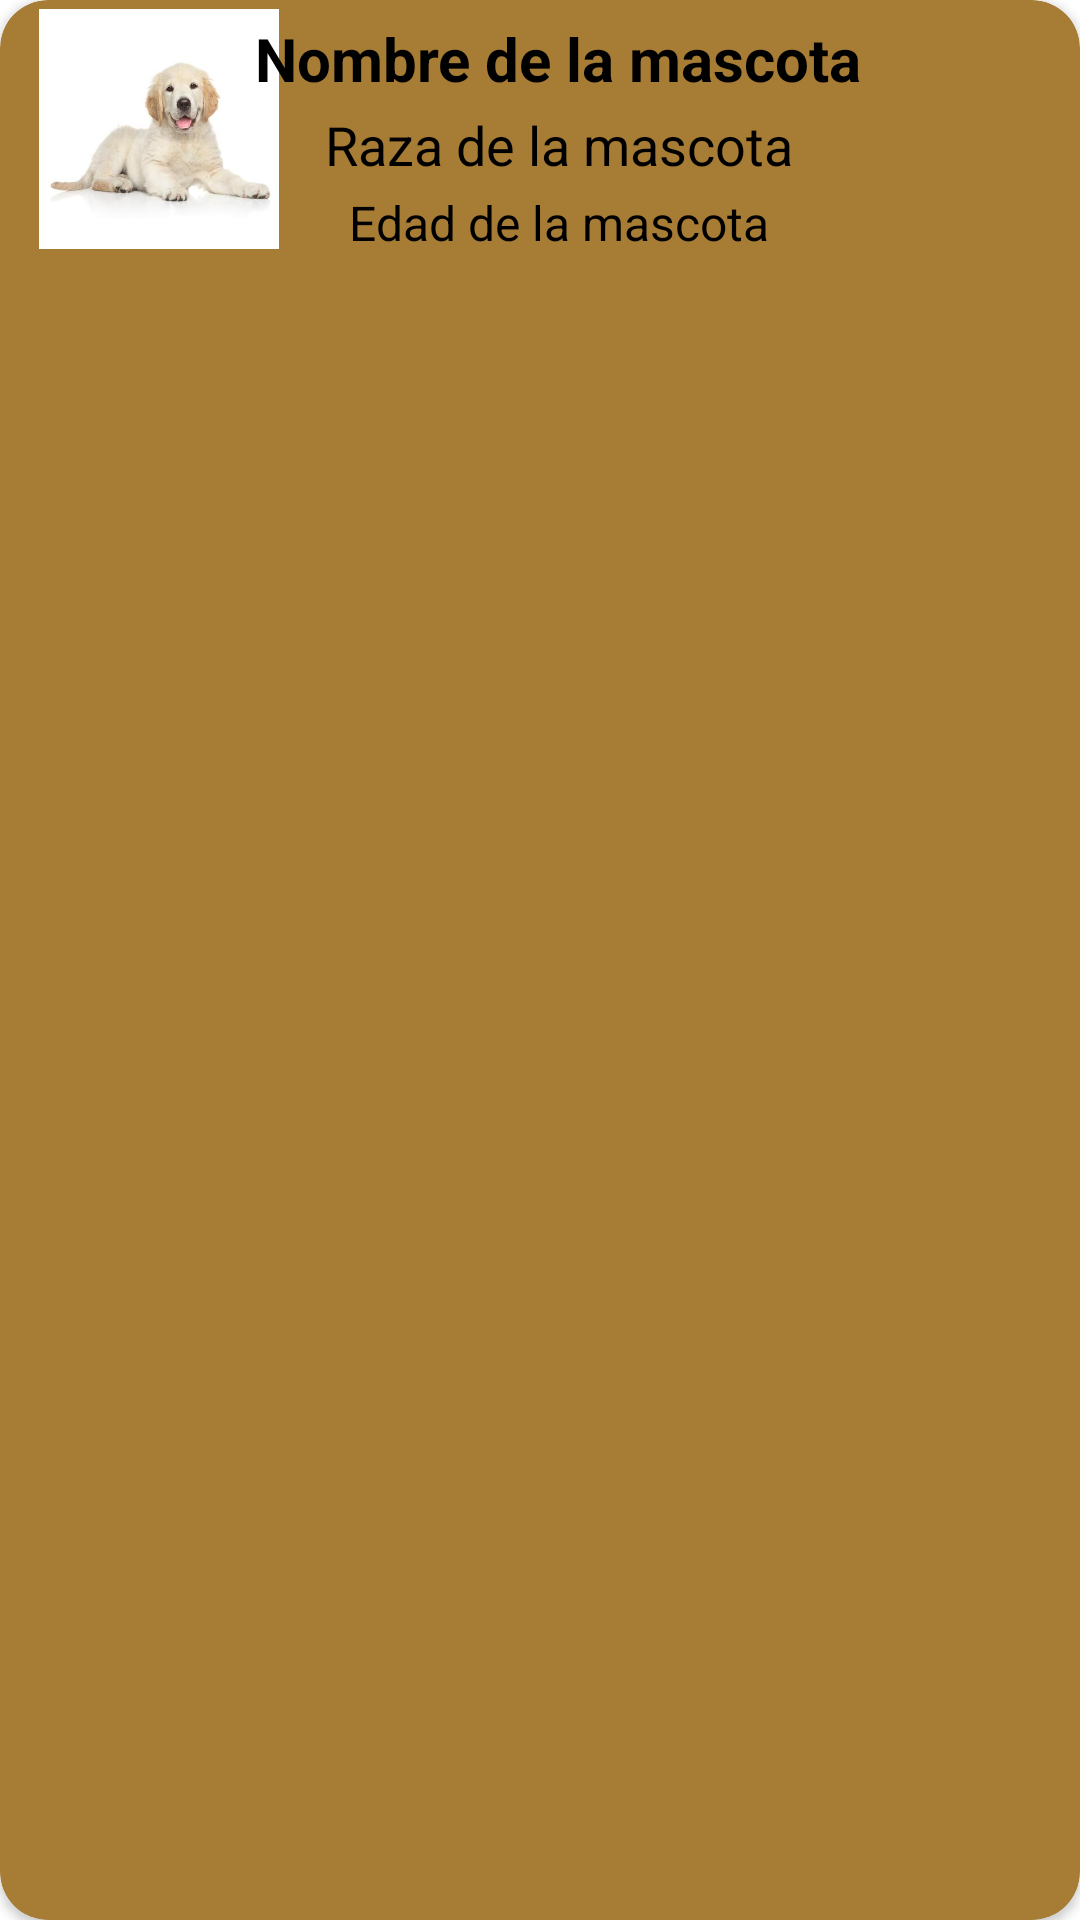

Icon click points for this 1080 × 1920 phone screenshot, format (x,y):
Imagen de la mascota: (159,129)
